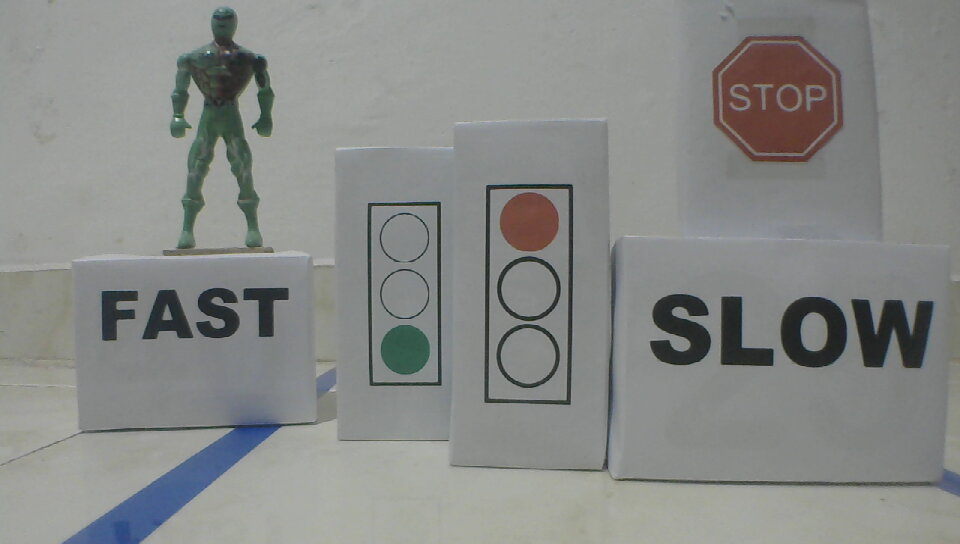Fast: (99, 286, 289, 343)
Green Traffic Light: (364, 195, 446, 390)
Person: (169, 2, 277, 251)
Red Traffic Light: (482, 183, 575, 409)
Slow: (646, 292, 936, 373)
Stop Sign: (709, 33, 845, 163)
